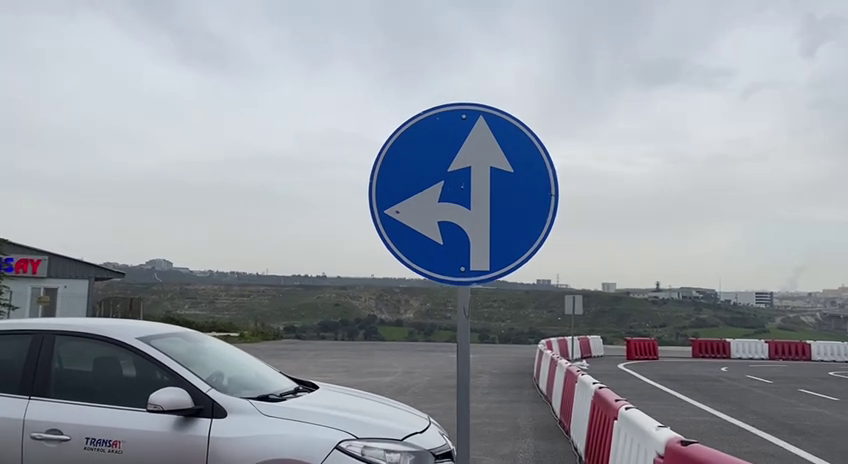forwardAndLeft: (363, 95, 565, 290)
